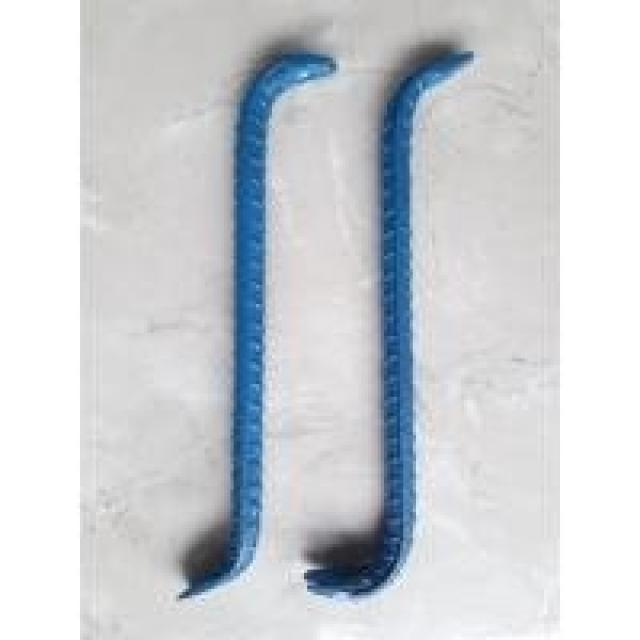Linggis: (181, 49, 340, 603)
